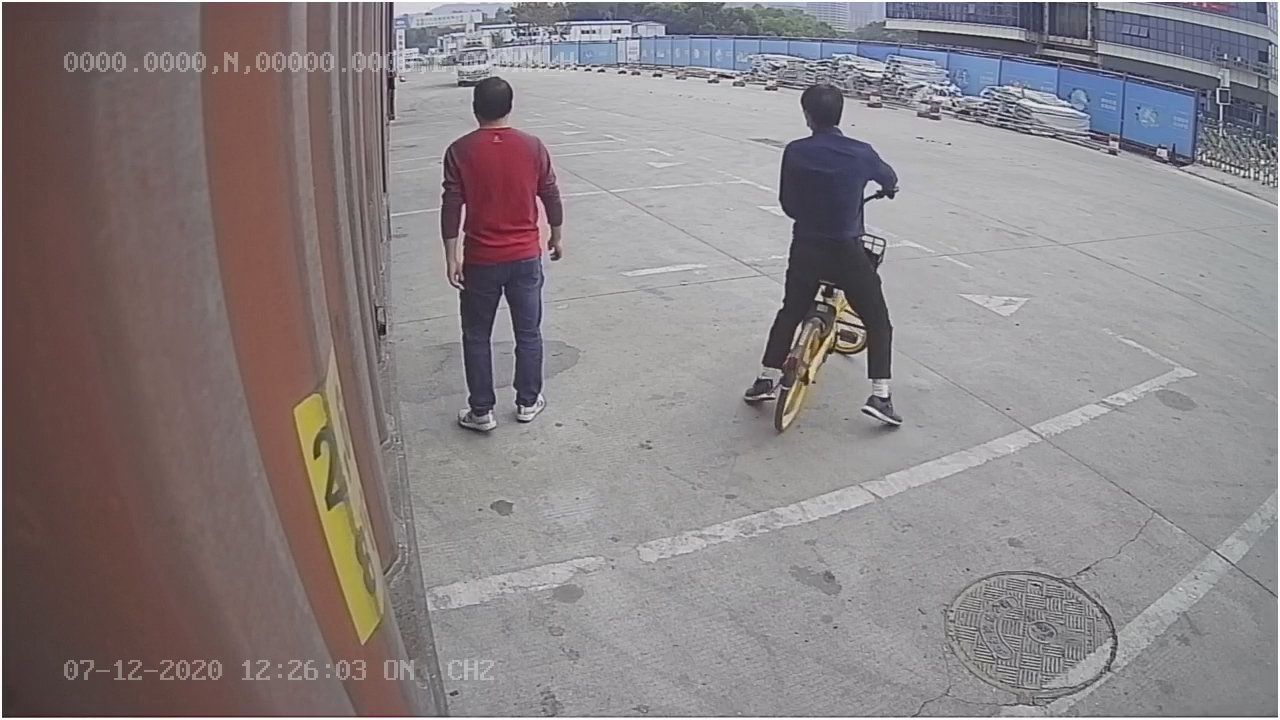person: (433, 71, 573, 439)
